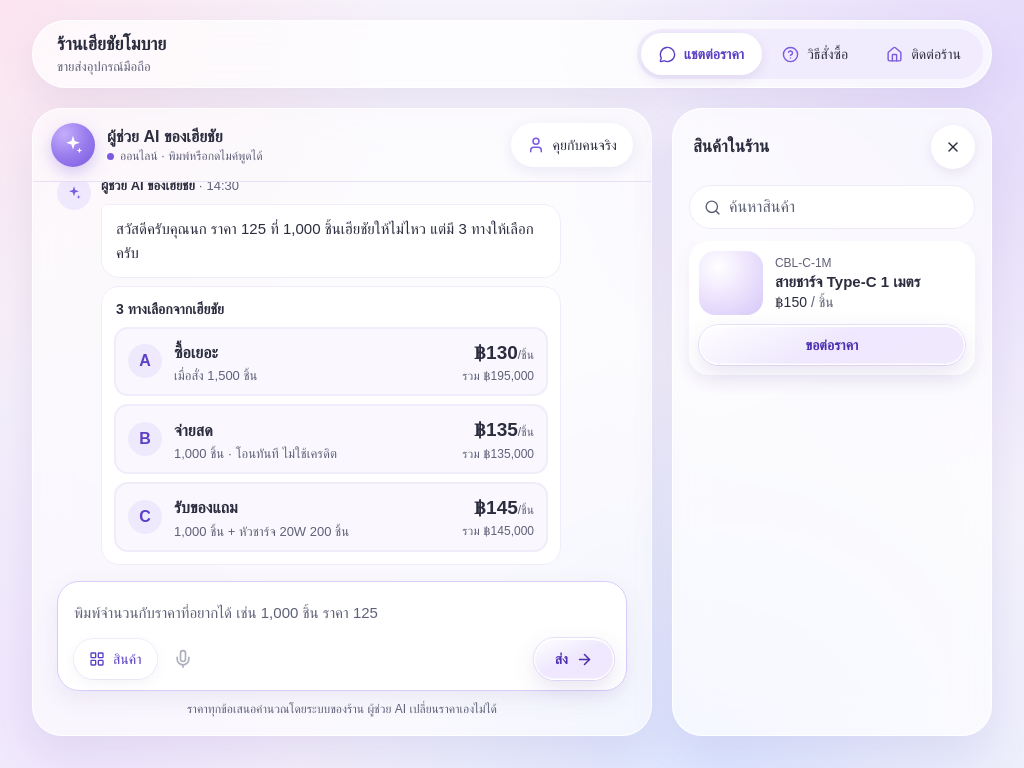
ChatScreen — แชตจริง (ผ่าน API) › server ชี้ข้อเสนอ (ลูกค้าพิมพ์ 'สั่ง 1,500 ชิ้น') → เลือกข้อ A ให้ พร้อมปุ่มยืนยัน
The width and height of the screenshot is (1024, 768).
Type "สั่ง 1,500 ชิ้น" into the field named "พิมพ์ข้อความ" at (344, 612), box 74,594 -> 614,630
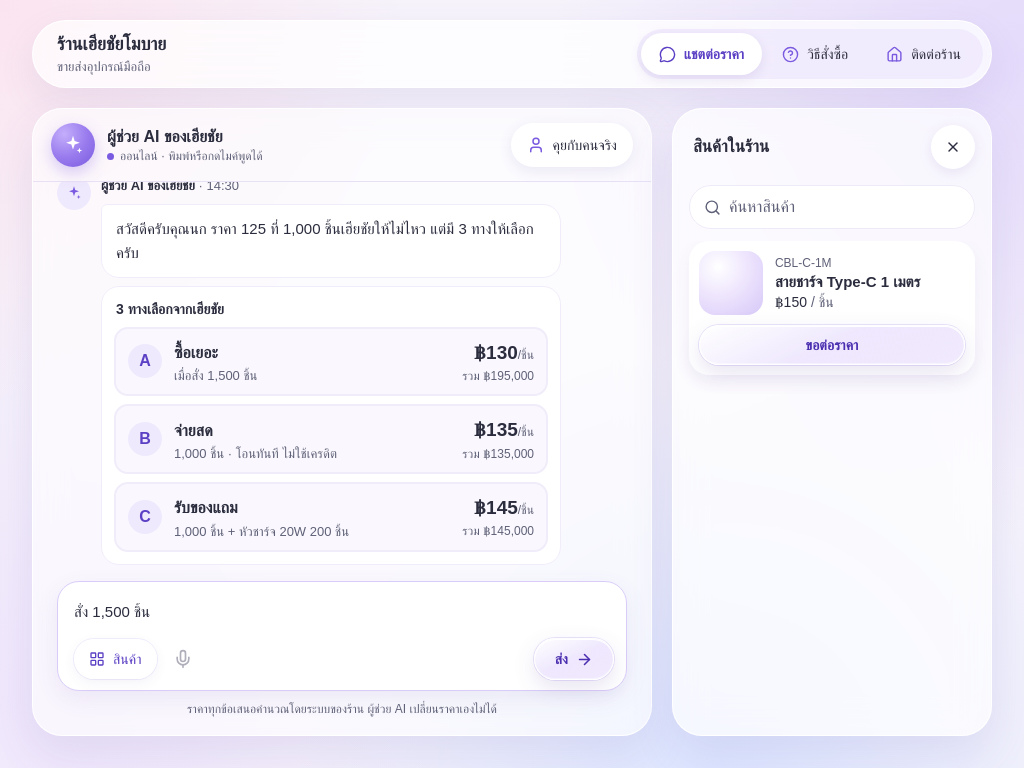
Click the button named "ส่งข้อความ" at (574, 659), box 534,638 -> 614,680
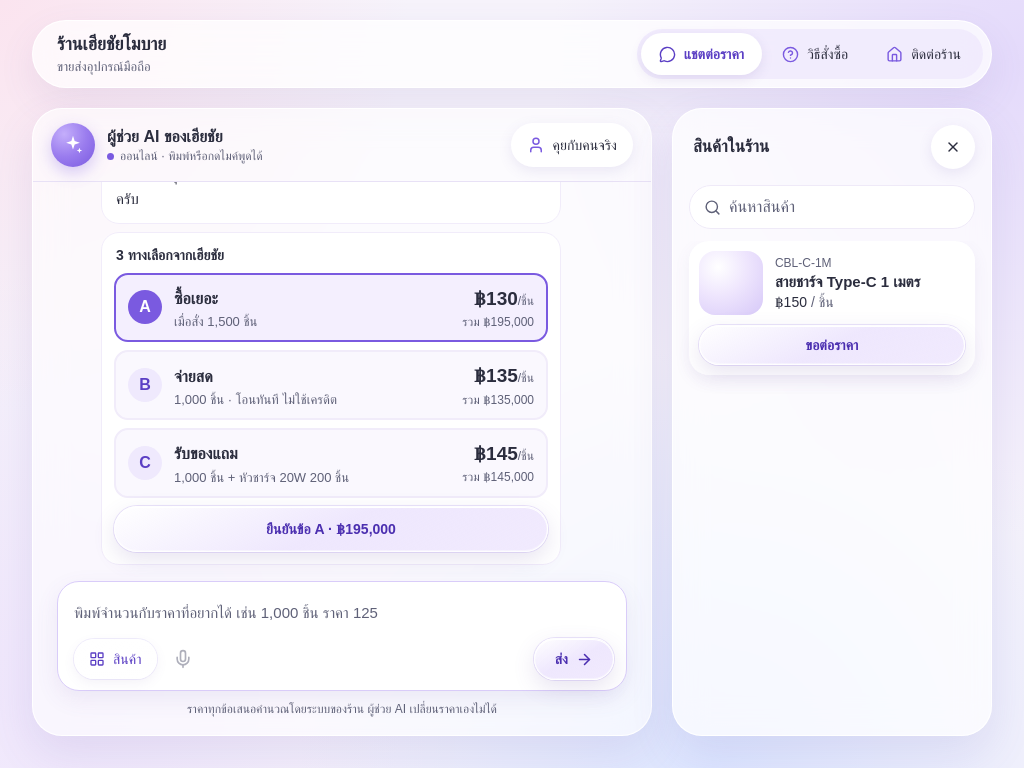
Expected: the button "ยืนยันข้อ A · ฿195,000" is shown, 114,506 -> 548,552
